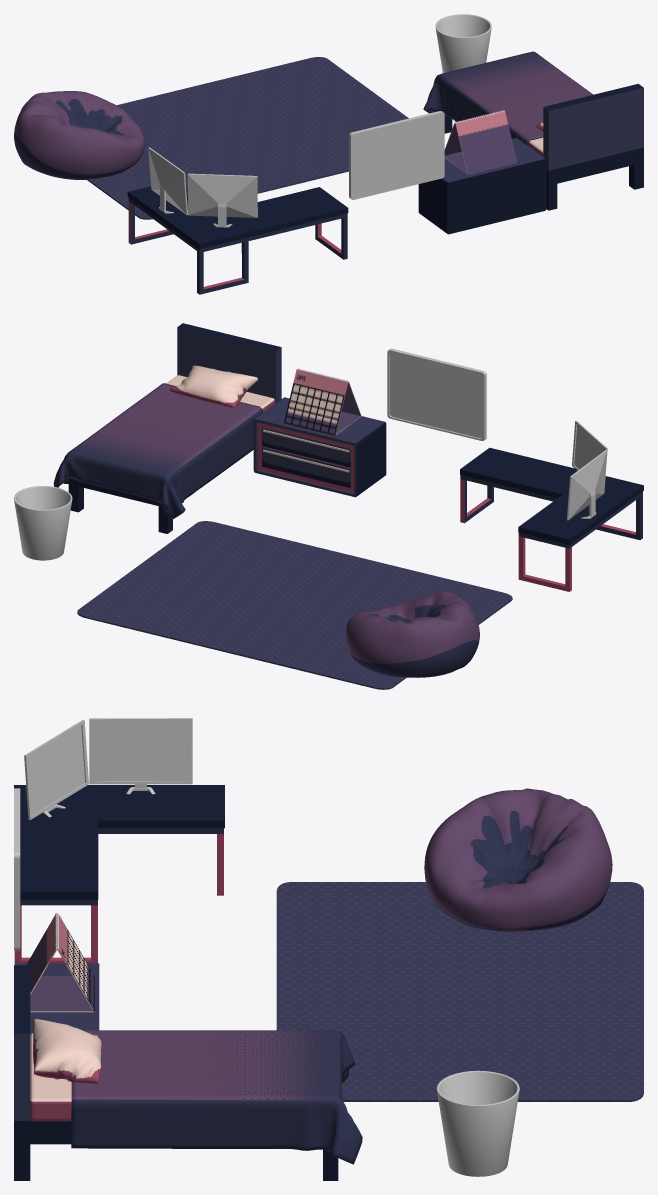
Rendered from hub objects.fbx.
The picture shows the model from 3 angles, top to bottom: view 1: azimuth 30°, elevation 25°; view 2: azimuth 150°, elevation 25°; view 3: azimuth 270°, elevation 25°; orthographic projection. The views are drawn at different scales.
Parts seen in each view (by area): view 1: Plane, beang, bed frame, sheet, side table, bulletin, calendar, monitor, Cube, Cube.001, trash, Cube.003 (+2 smaller); view 2: Plane, sheet, beang, side table, bulletin, bed frame, calendar, trash, Cube, Cube.001, pillow, Cube.003 (+4 smaller); view 3: Plane, sheet, beang, trash, monitor.001, Cube.001, Cube, bed frame, calendar, monitor, pillow, mattress (+4 smaller).
Boxes of the visible parts, x1,y1,x2,y2 form: Plane: [87, 57, 408, 219]; beang: [14, 91, 144, 179]; bed frame: [444, 84, 643, 210]; sheet: [423, 51, 592, 145]; side table: [418, 138, 546, 234]; bulletin: [349, 111, 444, 199]; calendar: [444, 110, 517, 174]; monitor: [187, 173, 257, 227]; Cube: [229, 187, 348, 237]; Cube.001: [127, 186, 248, 249]; trash: [435, 14, 491, 73]; Cube.003: [128, 198, 248, 294]; Plane: [77, 521, 512, 689]; sheet: [53, 383, 262, 519]; beang: [346, 591, 479, 677]; side table: [253, 397, 386, 497]; bulletin: [387, 348, 486, 440]; bed frame: [68, 323, 281, 533]; calendar: [284, 369, 361, 435]; trash: [14, 486, 72, 560]; Cube: [460, 447, 577, 498]; Cube.001: [518, 476, 643, 544]; pillow: [169, 365, 258, 408]; Cube.003: [518, 491, 642, 591]; Plane: [276, 882, 643, 1101]; sheet: [71, 1030, 362, 1164]; beang: [424, 788, 612, 931]; trash: [436, 1070, 519, 1176]; monitor.001: [89, 718, 192, 794]; Cube.001: [14, 785, 224, 828]; Cube: [20, 820, 98, 899]; bed frame: [14, 965, 338, 1180]; calendar: [26, 914, 94, 1012]; monitor: [24, 719, 88, 819]; pillow: [33, 1018, 101, 1084]; mattress: [30, 1033, 71, 1120].
Bounding box in the file's own units: 937 × 240 × 746.
